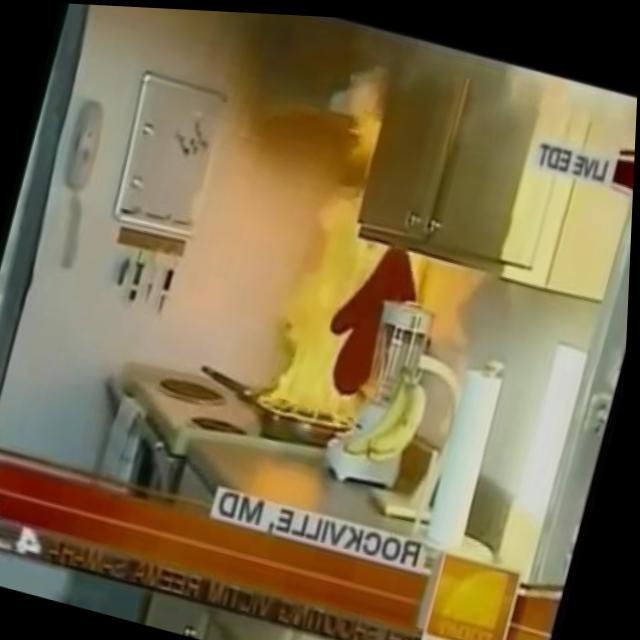fire: (248, 72, 457, 444)
